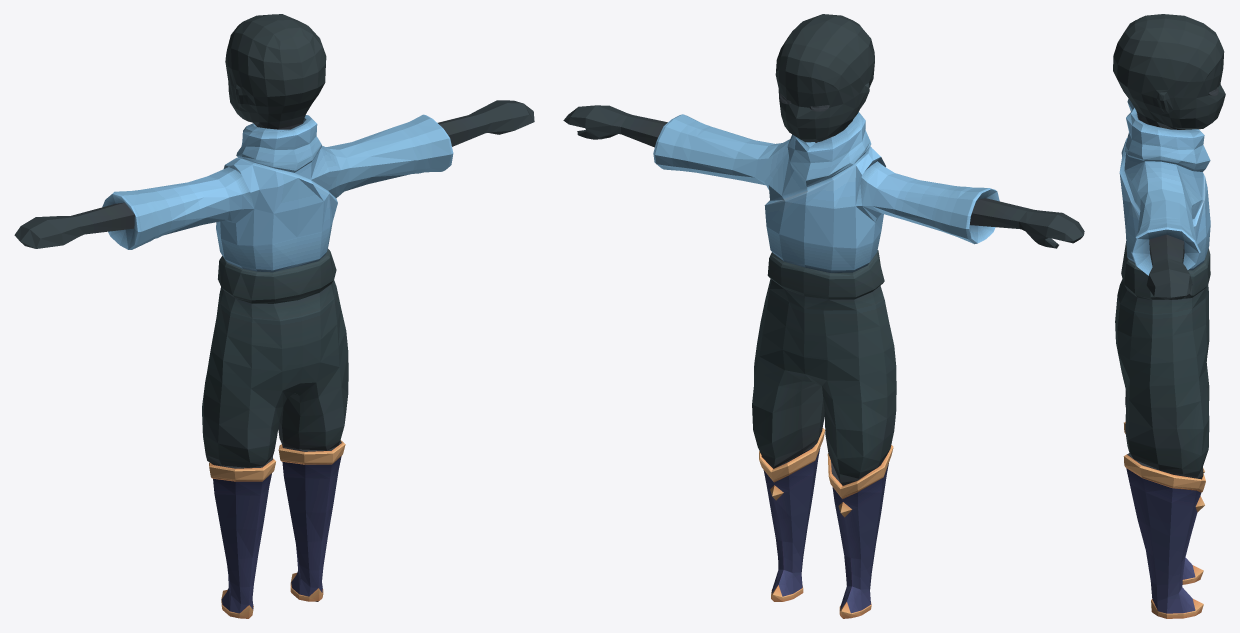
File: CharSkyKid_Body_APActorPants_01.glb
The picture shows the model from 3 angles, left to right: view 1: azimuth 30°, elevation 25°; view 2: azimuth 150°, elevation 25°; view 3: azimuth 270°, elevation 25°; orthographic projection.
Parts seen in each view (by area): view 1: CharSkyKid_Body_APActorPants_01; view 2: CharSkyKid_Body_APActorPants_01; view 3: CharSkyKid_Body_APActorPants_01.
Part boxes in pixels (x1=…): CharSkyKid_Body_APActorPants_01: x1=14, y1=14, x2=534, y2=618; CharSkyKid_Body_APActorPants_01: x1=563, y1=14, x2=1084, y2=618; CharSkyKid_Body_APActorPants_01: x1=1113, y1=14, x2=1225, y2=618.
Bounding box in the file's own units: 13.83 × 14.93 × 2.64.
Materials: 1 (1 with a texture image).
